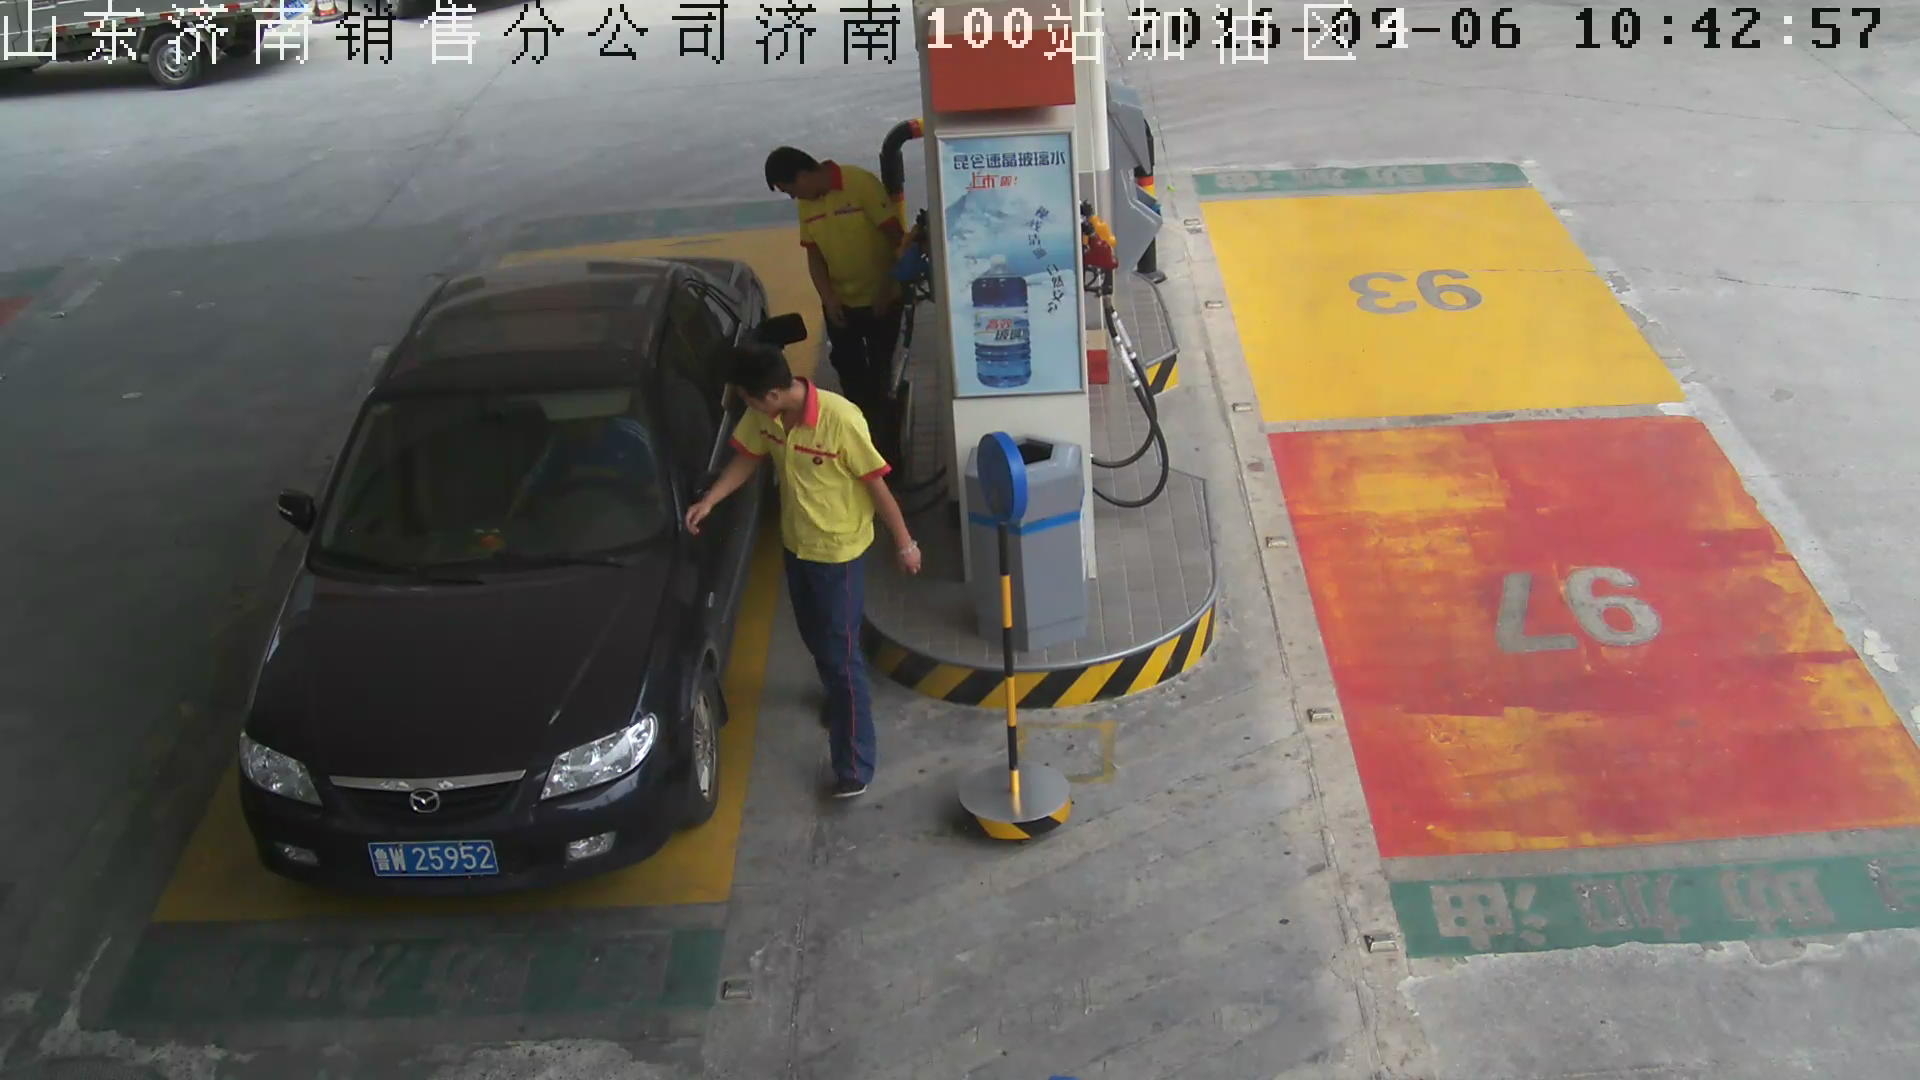blue: (365, 839, 501, 880)
